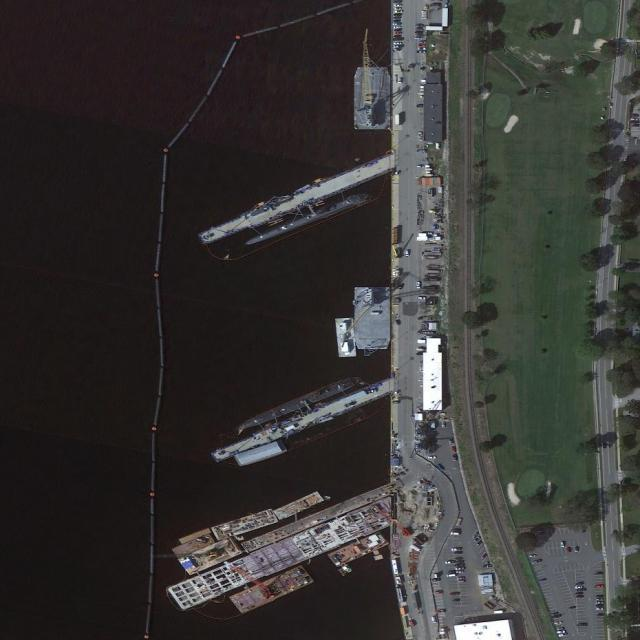Dock: (167, 495, 397, 615), (198, 150, 399, 246), (211, 376, 397, 463)
Submarine: (237, 374, 360, 431), (245, 192, 369, 246)
